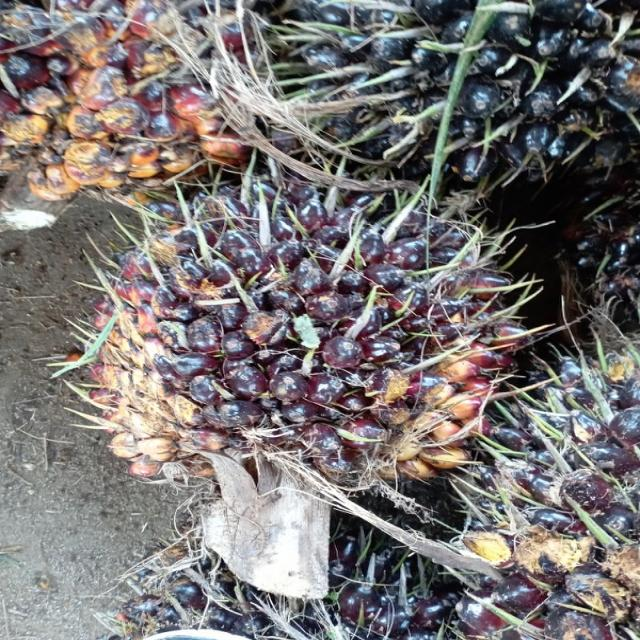fraksi 00: (90, 174, 498, 508), (311, 0, 640, 172)
